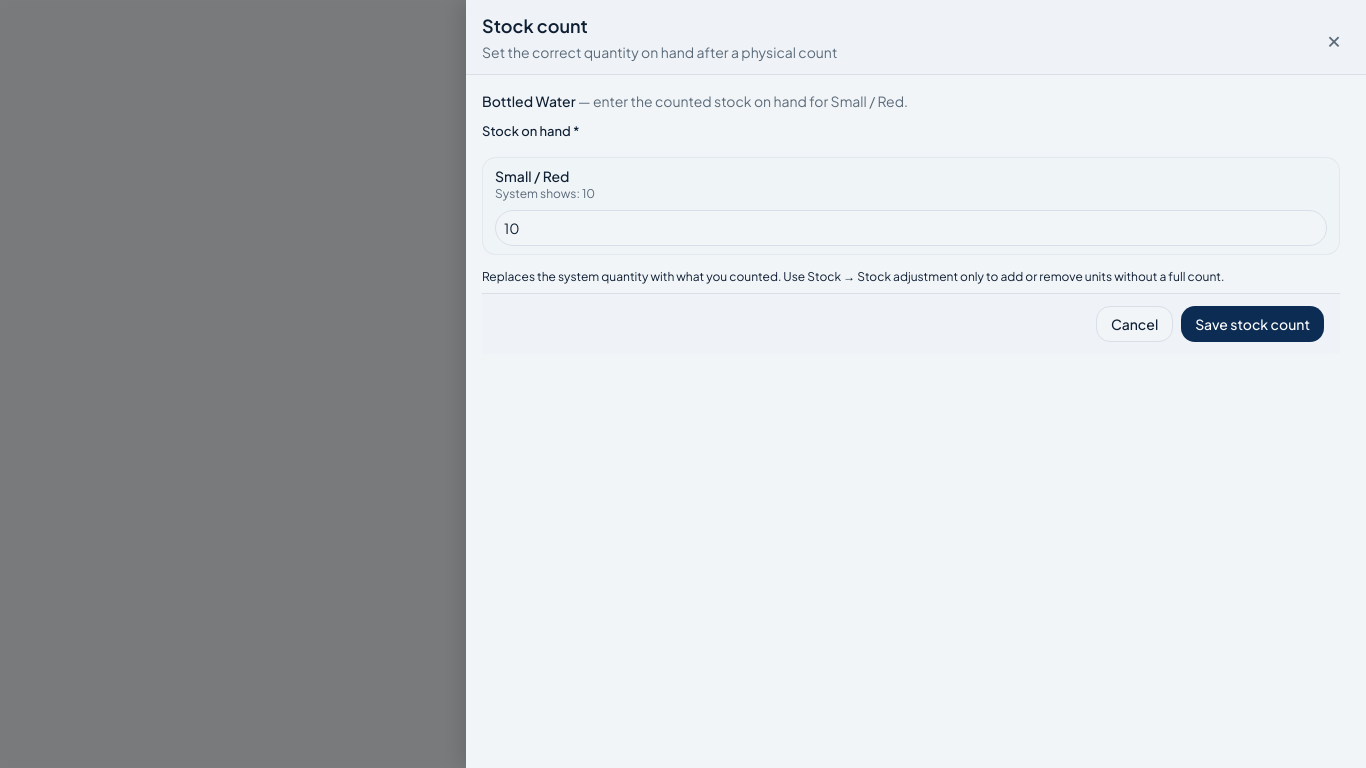
StockCountModal › single variant unchanged count shows validation error
Click the button "Save stock count": [1253, 324] box [1181, 306, 1324, 342]
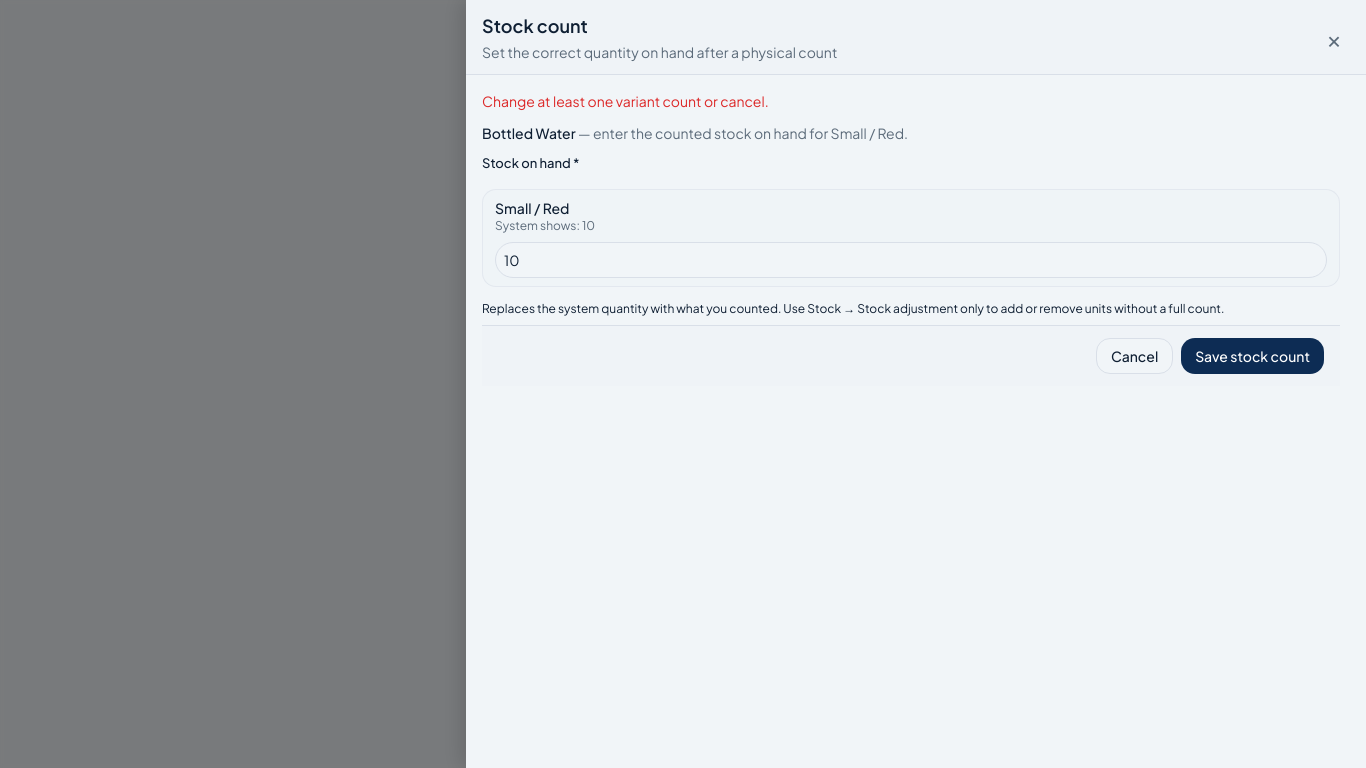
Check: the text "Change at least one variant count or cancel." is shown, box [482, 92, 769, 110]
